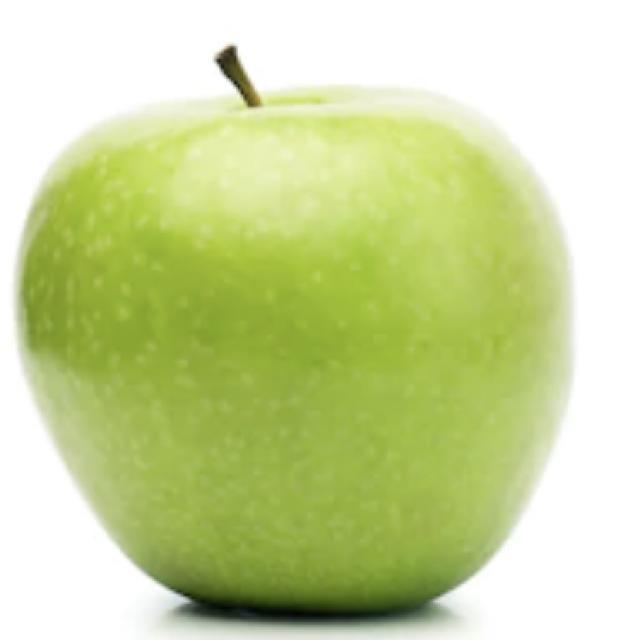Fresh Apple: (35, 88, 580, 612)
